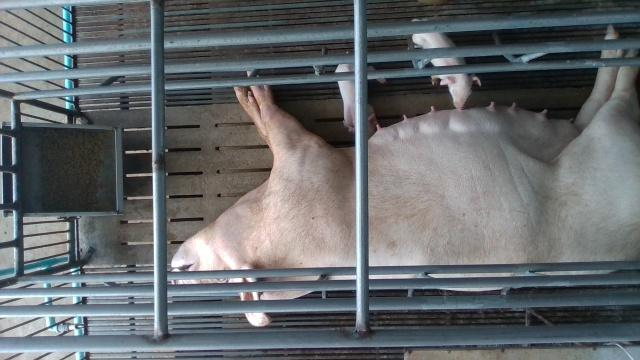piglet: (413, 19, 482, 110), (337, 63, 385, 134)
sow-sleep-lactate: (172, 24, 640, 328)
